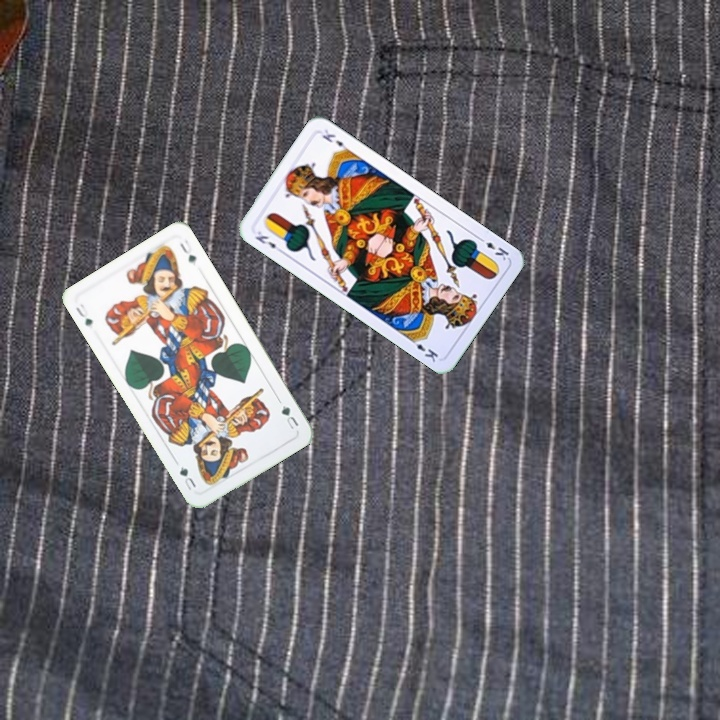EK: (474, 233, 512, 263), (251, 227, 286, 256)
GU: (277, 401, 301, 432), (72, 300, 95, 330)
